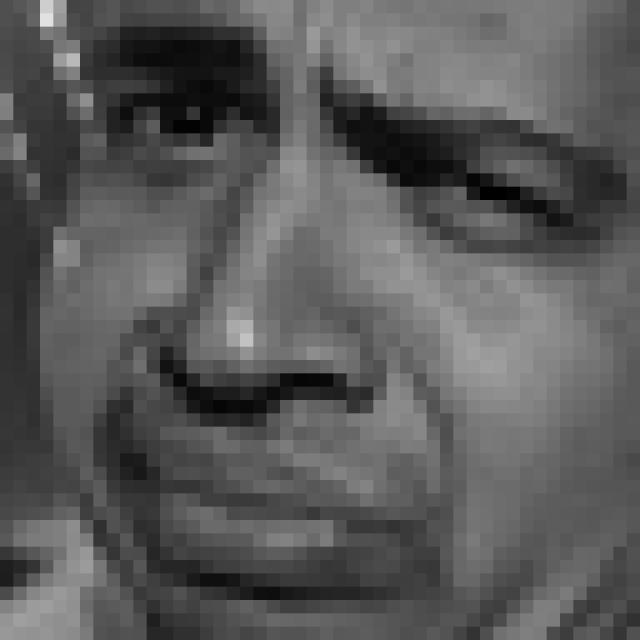disgust: (79, 29, 620, 610)
